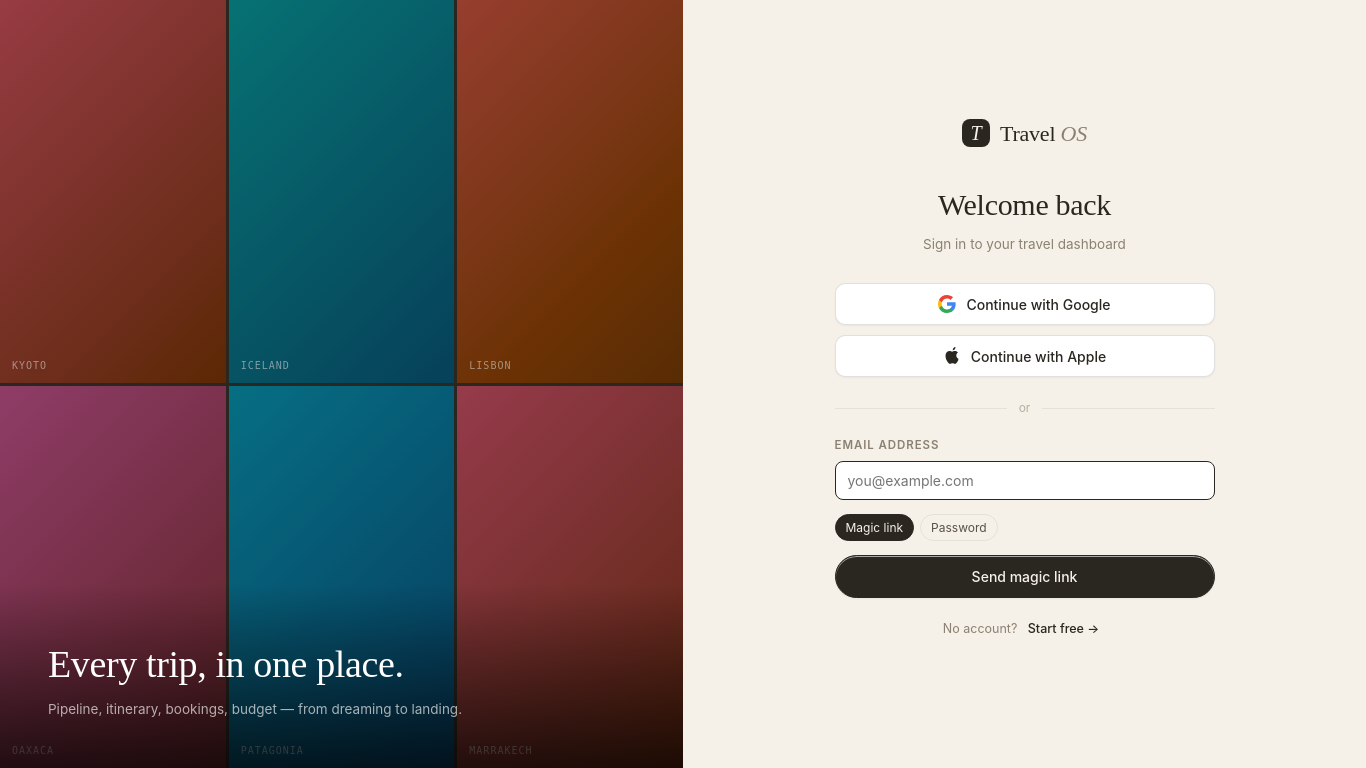
Test: Login › keeps submit button enabled after an error so the user can retry
The width and height of the screenshot is (1366, 768).
Step 1. Type "user@example.com" into the field labelled "Email address" → (1024, 480), box x1=834 y1=460 x2=1214 y2=500
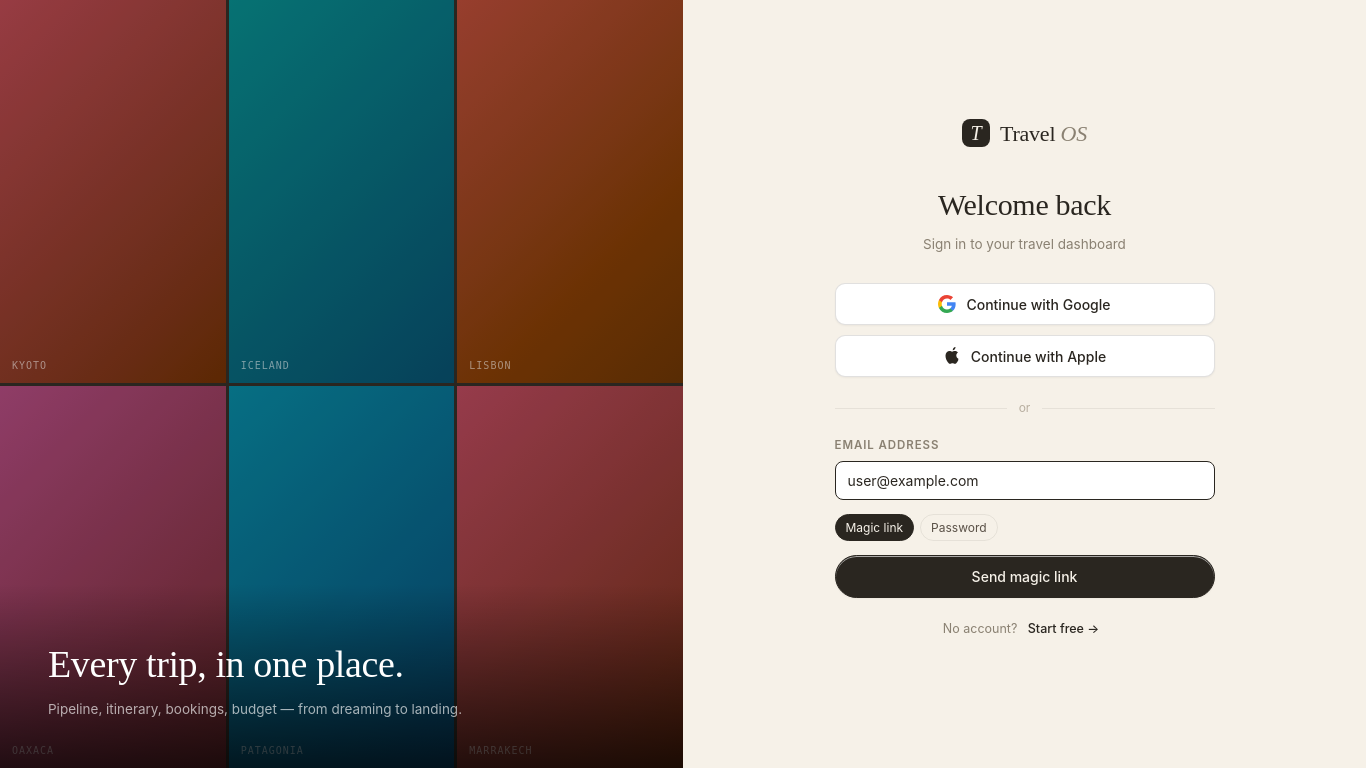
Step 2. Click the button "Send magic link" → (1024, 576), box x1=834 y1=554 x2=1214 y2=598
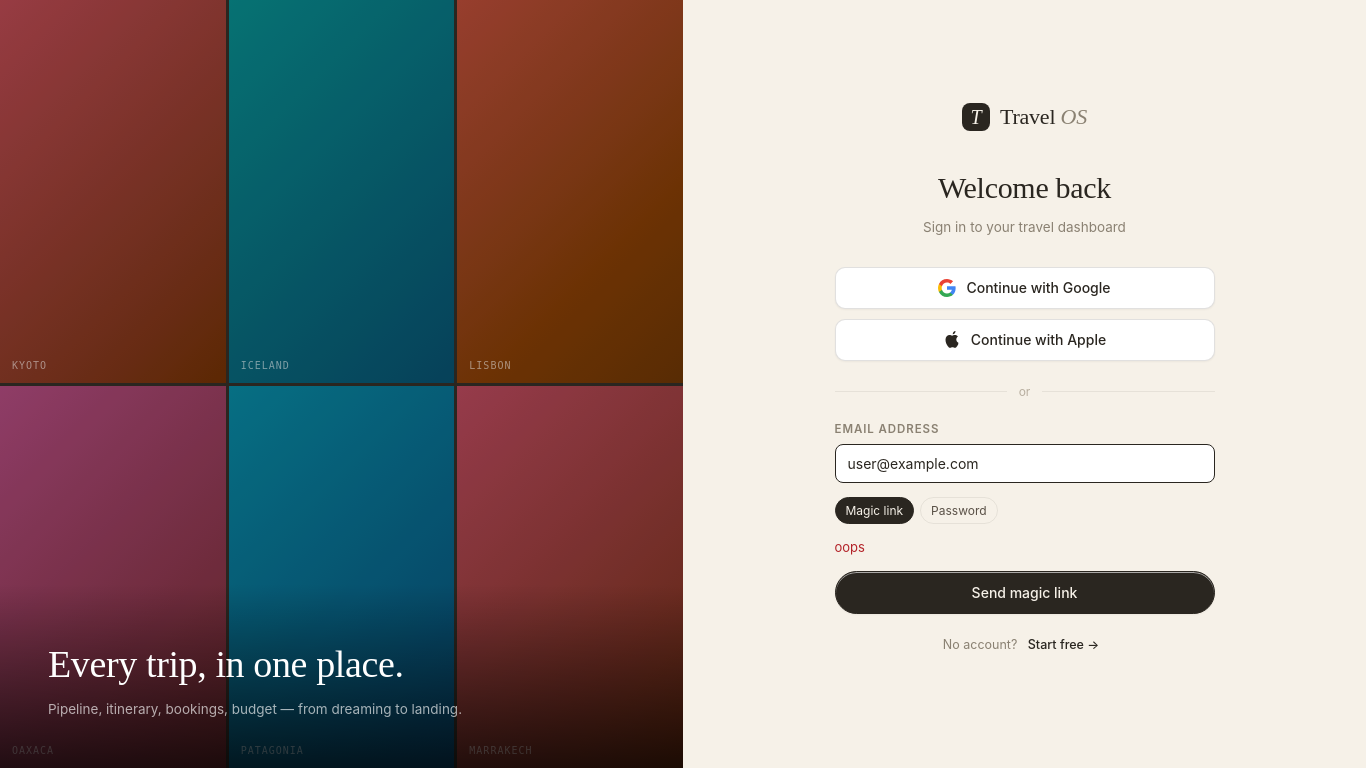
Expected: the button "Send magic link" is enabled, x1=834 y1=571 x2=1214 y2=614
Expected: the message "oops" is shown, x1=834 y1=539 x2=865 y2=555
